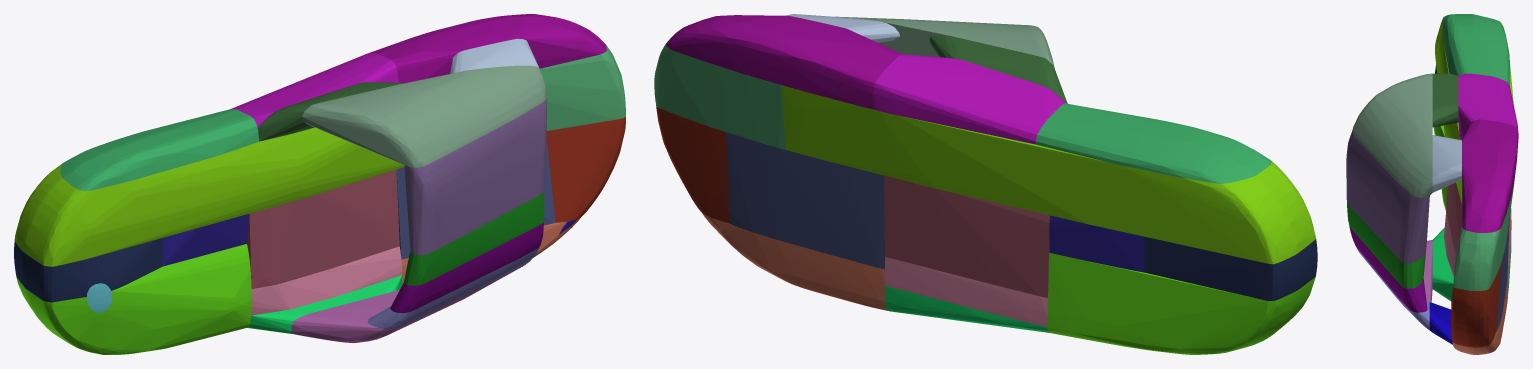
File: coacd_collision.obj
The picture shows the model from 3 angles, left to right: view 1: azimuth 30°, elevation 25°; view 2: azimuth 150°, elevation 25°; view 3: azimuth 270°, elevation 25°; orthographic projection. The views are drawn at different scales.
Visible parts, largest first — view 1: geometry_4, geometry_0, geometry_17, geometry_1, geometry_13, geometry_10, geometry_14, geometry_15, geometry_21, geometry_3, geometry_24, geometry_8 (+11 smaller); view 2: geometry_4, geometry_17, geometry_16, geometry_13, geometry_14, geometry_22, geometry_10, geometry_3, geometry_21, geometry_9, geometry_15, geometry_24 (+5 smaller); view 3: geometry_0, geometry_1, geometry_14, geometry_10, geometry_3, geometry_15, geometry_22, geometry_8, geometry_6, geometry_19, geometry_11, geometry_23 (+9 smaller).
Boxes of the visible parts, box(x1,y1,x2,y2) form: geometry_4: box(14, 127, 404, 266); geometry_0: box(302, 65, 546, 167); geometry_17: box(16, 244, 251, 354); geometry_1: box(404, 98, 546, 255); geometry_13: box(247, 169, 399, 288); geometry_10: box(60, 109, 259, 190); geometry_14: box(370, 14, 606, 83); geometry_15: box(546, 117, 625, 222); geometry_21: box(14, 238, 162, 302); geometry_3: box(540, 45, 625, 130); geometry_24: box(251, 246, 402, 315); geometry_8: box(404, 192, 544, 285); geometry_4: box(781, 85, 1315, 264); geometry_17: box(1047, 252, 1315, 354); geometry_16: box(726, 132, 885, 269); geometry_13: box(884, 175, 1050, 297); geometry_14: box(666, 15, 901, 109); geometry_22: box(874, 54, 1066, 144); geometry_10: box(1035, 103, 1271, 183); geometry_3: box(654, 43, 785, 149); geometry_21: box(1144, 236, 1317, 300); geometry_9: box(703, 214, 886, 310); geometry_15: box(656, 105, 730, 223); geometry_24: box(885, 257, 1047, 327); geometry_0: box(1352, 73, 1432, 197); geometry_1: box(1346, 131, 1429, 263); geometry_14: box(1462, 119, 1518, 232); geometry_10: box(1442, 14, 1509, 86); geometry_3: box(1453, 186, 1513, 290); geometry_15: box(1451, 261, 1501, 347); geometry_22: box(1458, 73, 1517, 140); geometry_8: box(1347, 203, 1425, 288); geometry_6: box(1432, 135, 1461, 192); geometry_19: box(1432, 73, 1458, 127); geometry_11: box(1349, 226, 1427, 312); geometry_23: box(1432, 228, 1511, 301).
Bounding box in the file's own units: 266 × 102 × 80.64.
